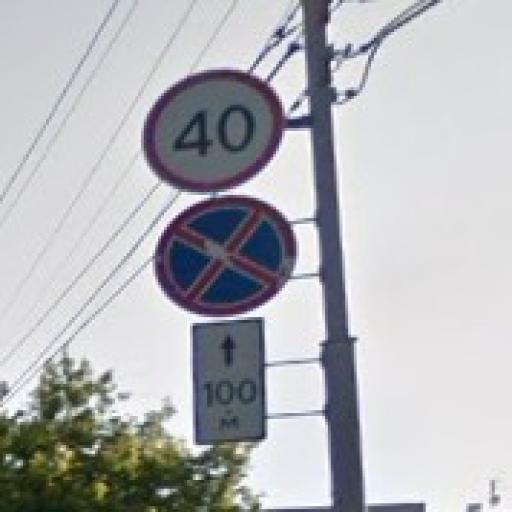traffic_sign: (142, 68, 286, 196), (154, 199, 298, 318)
